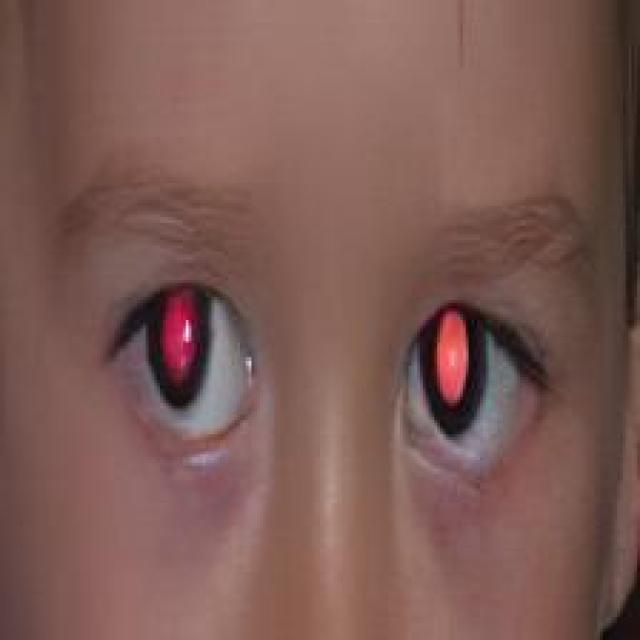reflexo-normal: (64, 239, 296, 486), (402, 290, 562, 490)
